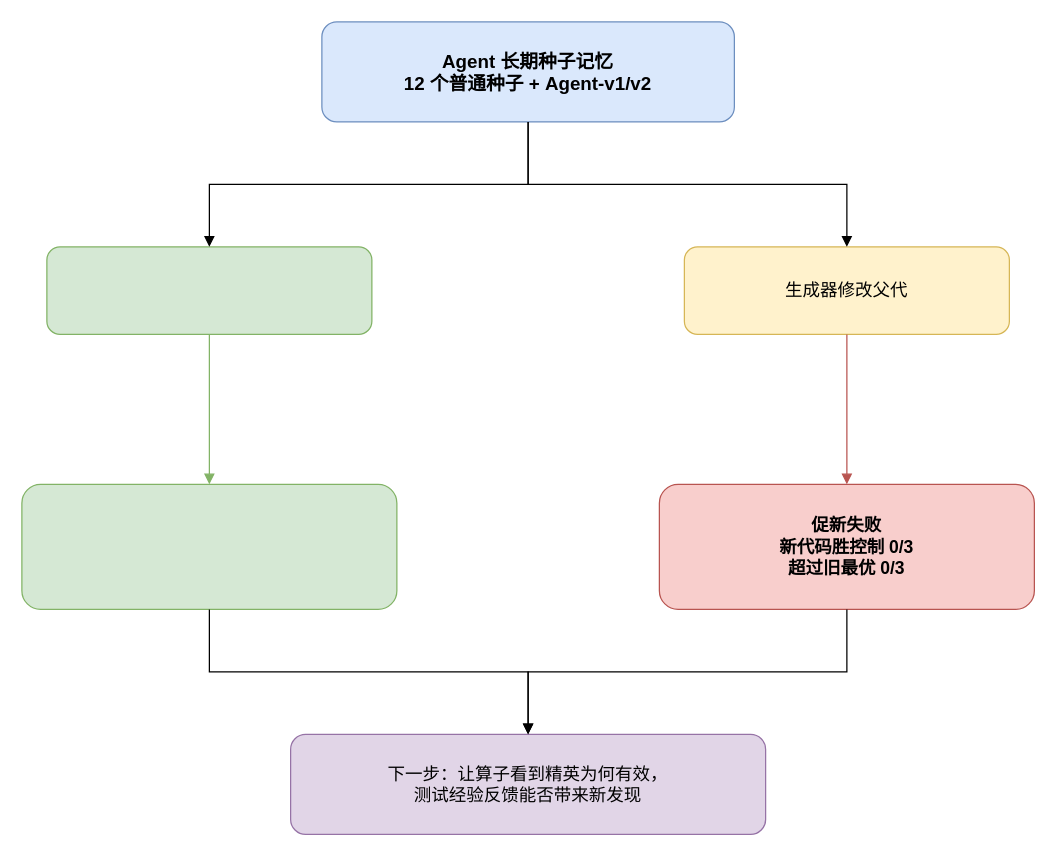
Some shapes in this 1056 by 856 pixel diagram are drawn without their labels. The shapes that lost their labels are listed below. From the top down, each one's centre as x and y in pixels, then its label:
(209,290): 选择器保留旧精英
(209,546): 保优成立 confirm-v4 提升 0.786% 11 胜 / 1 平 / 0 负
